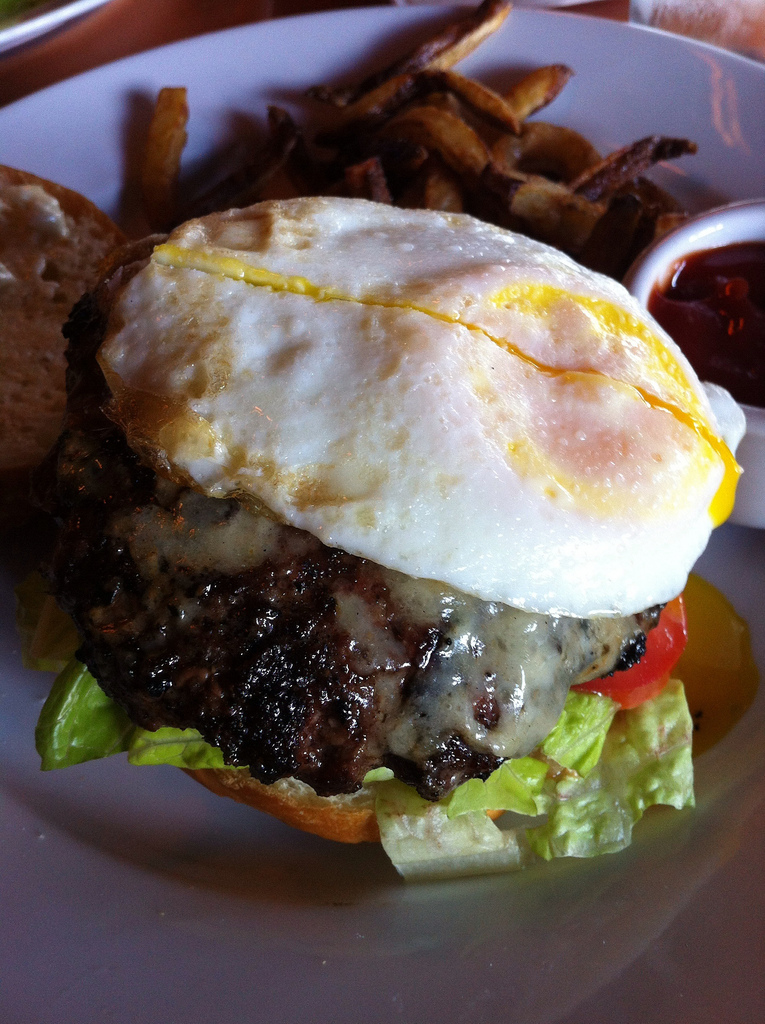chopped lettuce: (381, 670, 698, 895)
fried egg: (114, 199, 733, 605)
